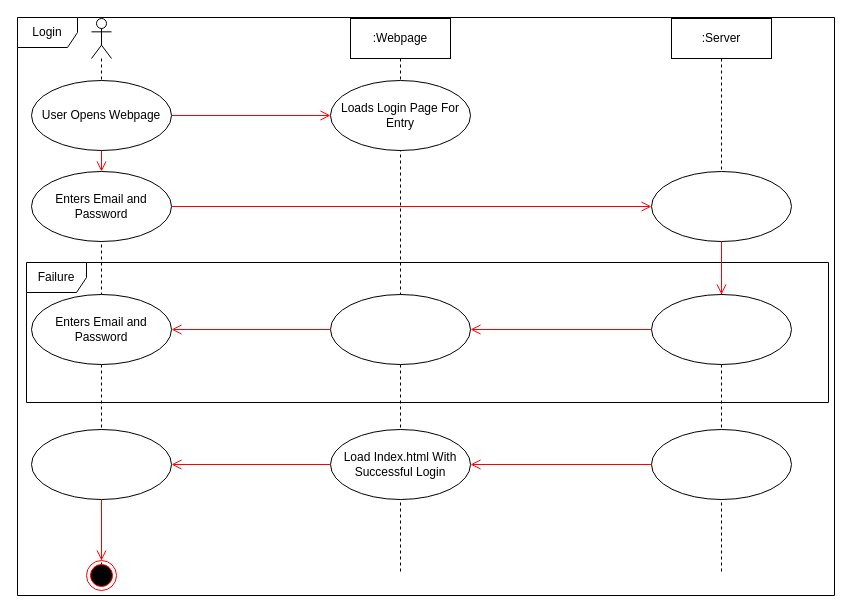
Image size: 852x613. Some labels were removed from this diagram. Each missing label, with the centre of its shape:
"Access Index.html and Main Functions" goes at point 101,464.
"Checks .ENV to see if Credentials are Correct" goes at point 721,206.
"Confirm Credentials are Correct" goes at point 721,464.
"Console log error" goes at point 721,329.
"Print 'Invalid Email or Password" goes at point 400,329.
